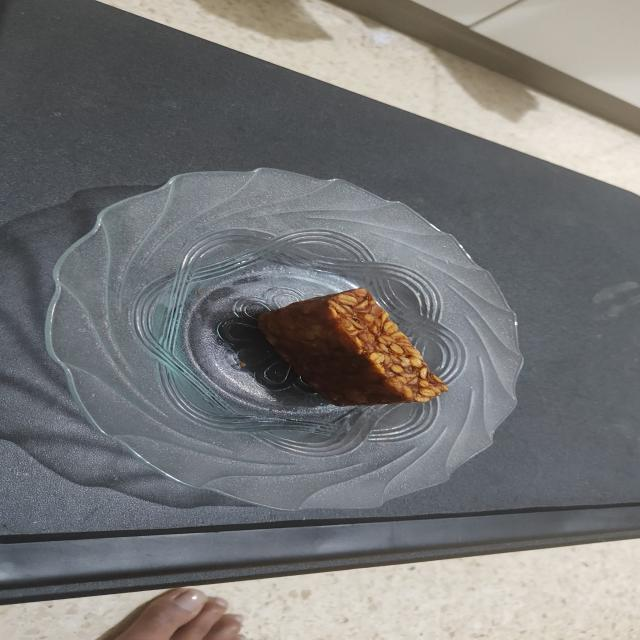tempe_goreng: (259, 288, 448, 406)
